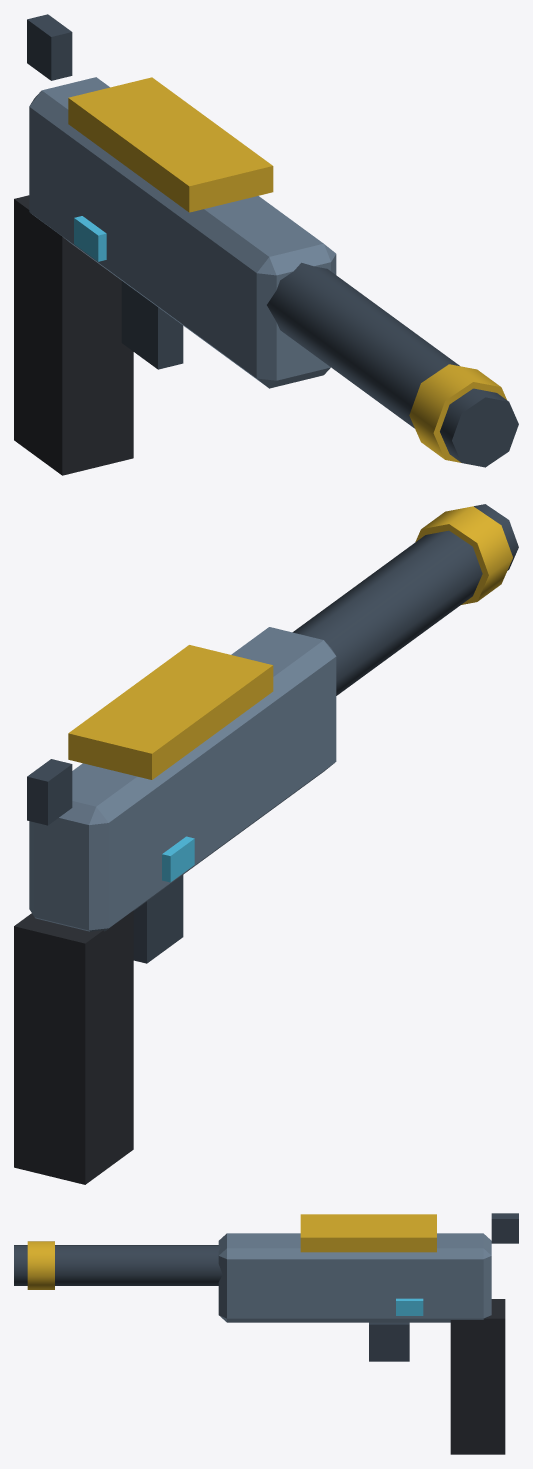
3 views of the same model, one above another, from view 1: azimuth 30°, elevation 25°; view 2: azimuth 150°, elevation 25°; view 3: azimuth 270°, elevation 25° (orthographic). The views are drawn at different scales.
Parts seen in each view (by area): view 1: dweller_weapon_pipe_pistol; view 2: dweller_weapon_pipe_pistol; view 3: dweller_weapon_pipe_pistol.
Boxes of the visible parts, x1,y1,x2,y2 form: dweller_weapon_pipe_pistol: (14,14,518,475); dweller_weapon_pipe_pistol: (14,504,518,1184); dweller_weapon_pipe_pistol: (14,1213,518,1454).
Size of the model in its own units: 0.046 by 0.185 by 0.37.
